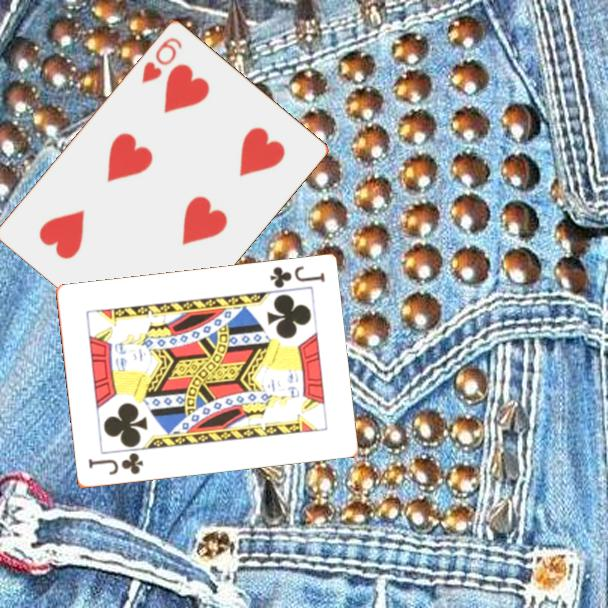c11: (85, 450, 146, 478), (266, 263, 327, 291)
h06: (138, 33, 185, 86)
